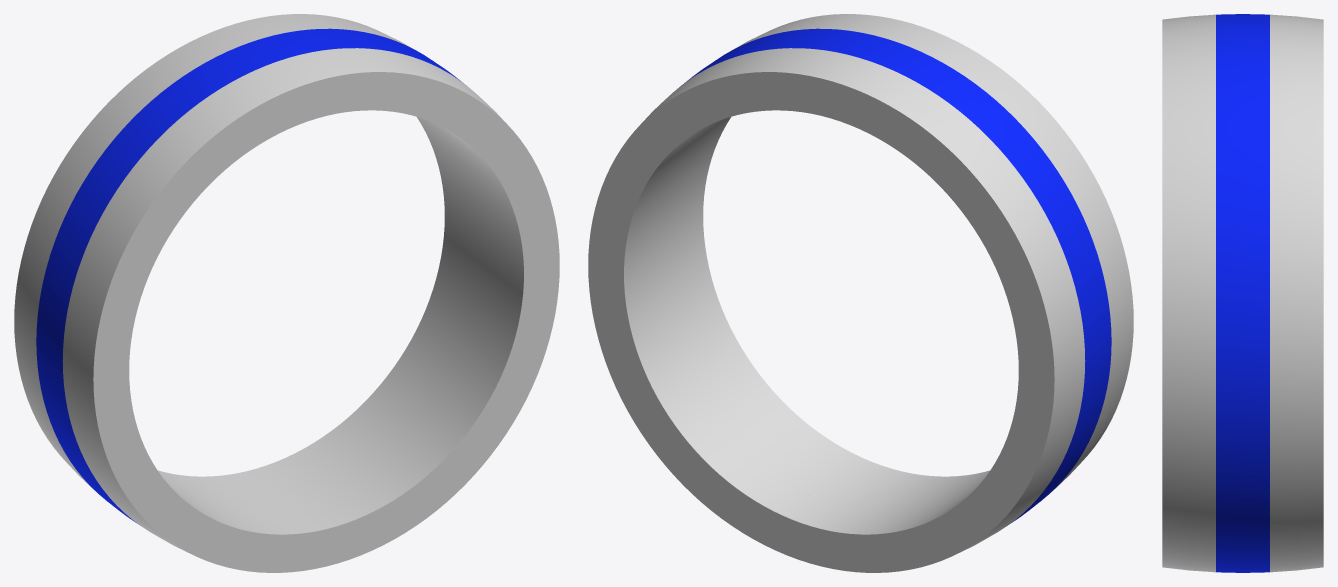
The model's file is NickBPTcolorit.glb.
3 views of the same model, side by side, from view 1: azimuth 30°, elevation 25°; view 2: azimuth 150°, elevation 25°; view 3: azimuth 270°, elevation 25° (orthographic).
Parts seen in each view (by area): view 1: Nick PT for 3d model, Nick jet for 3d model; view 2: Nick PT for 3d model, Nick jet for 3d model; view 3: Nick PT for 3d model, Nick jet for 3d model.
Boxes of the visible parts, x1,y1,x2,y2 form: Nick PT for 3d model: (14,14,559,572); Nick jet for 3d model: (36,28,461,523); Nick PT for 3d model: (588,14,1133,572); Nick jet for 3d model: (686,28,1111,523); Nick PT for 3d model: (1162,14,1323,572); Nick jet for 3d model: (1216,14,1269,572).
Size of the model in its own units: 21.15 by 21.15 by 6.1.
